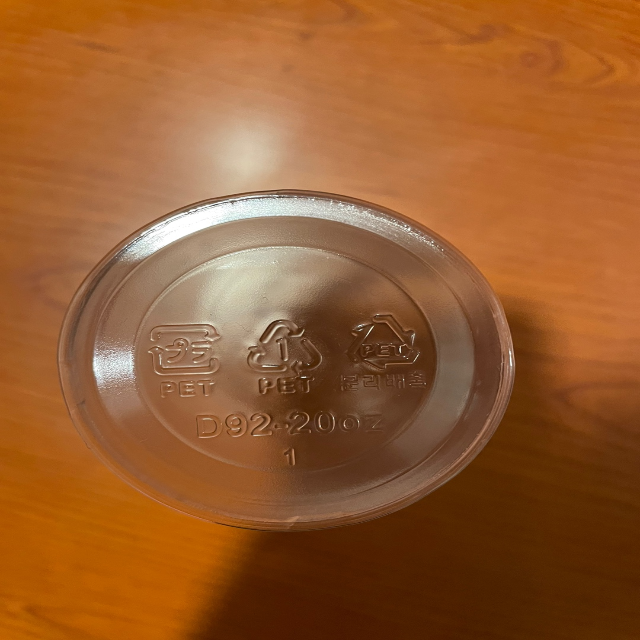pet: (337, 304, 439, 397), (139, 313, 228, 407), (240, 313, 324, 400)
